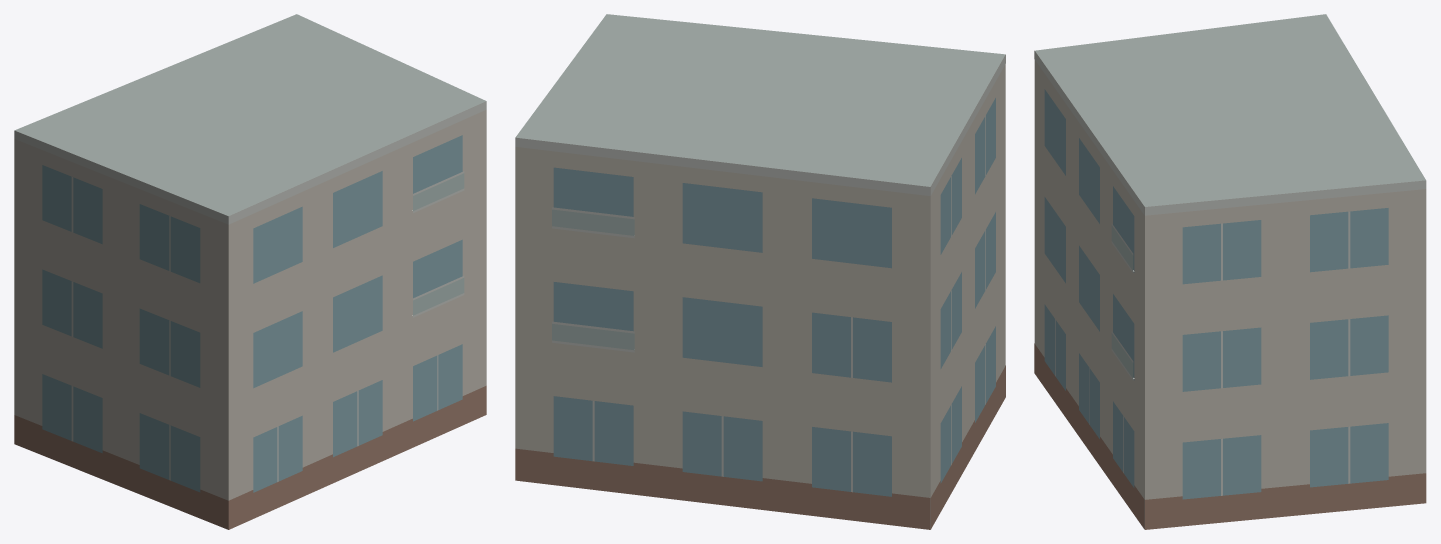
The model's file is survey-upis-32648669.glb.
The picture shows the model from 3 angles, left to right: view 1: azimuth 30°, elevation 25°; view 2: azimuth 150°, elevation 25°; view 3: azimuth 270°, elevation 25°; orthographic projection. The views are drawn at different scales.
Visible parts, largest first — view 1: survey-upis-32648669.tmp; view 2: survey-upis-32648669.tmp; view 3: survey-upis-32648669.tmp.
Part boxes in pixels (left/top/right/bottom): survey-upis-32648669.tmp: left=14, top=14, right=486, bottom=529; survey-upis-32648669.tmp: left=515, top=14, right=1005, bottom=529; survey-upis-32648669.tmp: left=1034, top=14, right=1426, bottom=529.
Bounding box in the file's own units: 11.68 × 9.1 × 10.02.
